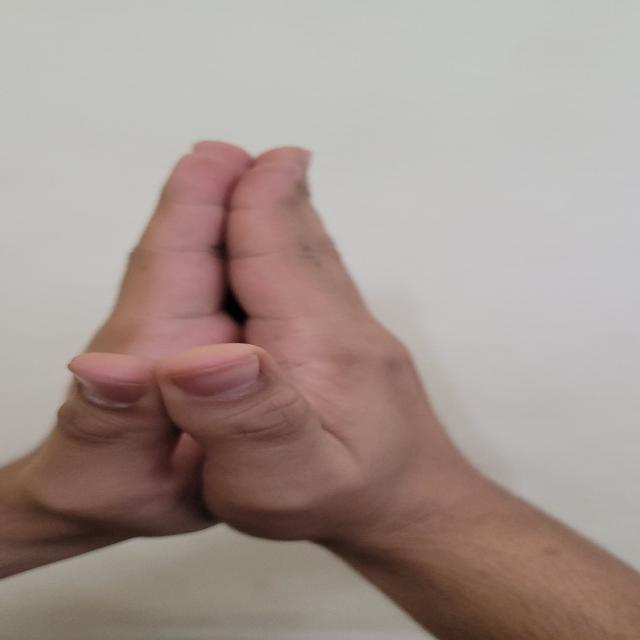Thank You: (19, 125, 535, 592)
